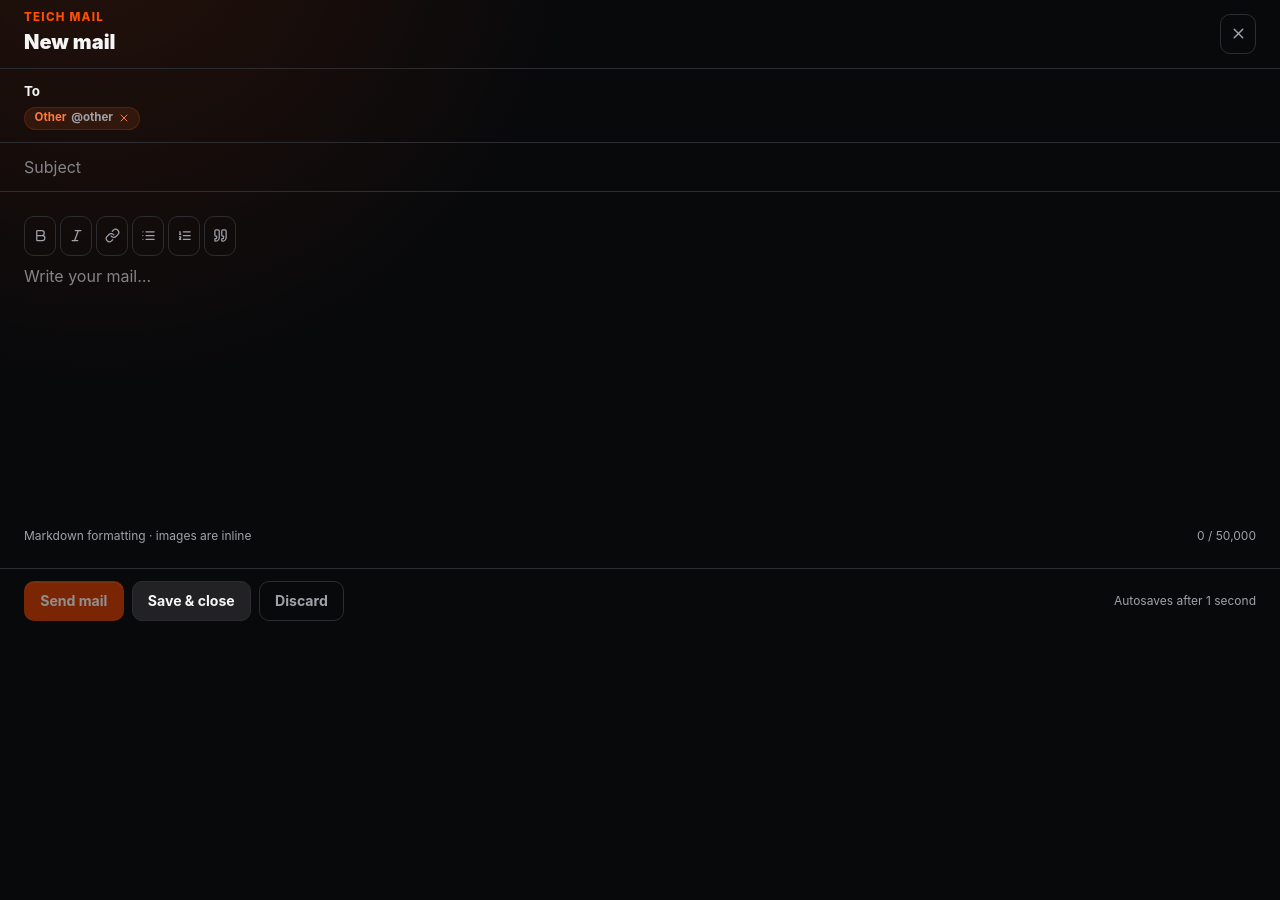
Test: MailComposer › queues edits made while an autosave is still running
In the field with placeholder "Subject": [640, 167] box [24,155,1256,179], type "First version"
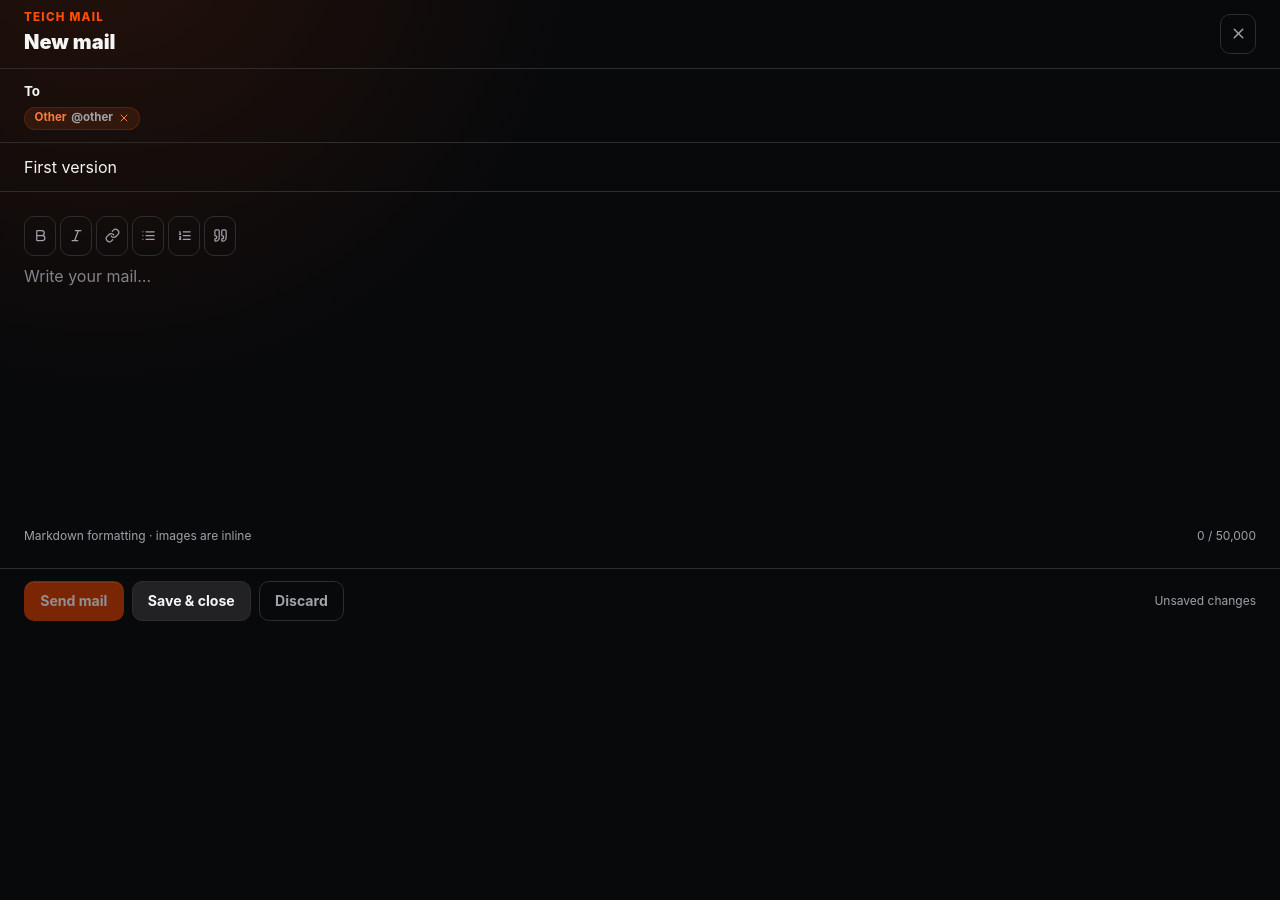
In the text box named "Mail body": [640, 392] box [24,264,1256,520], type "First body"
Wait 1000 ms
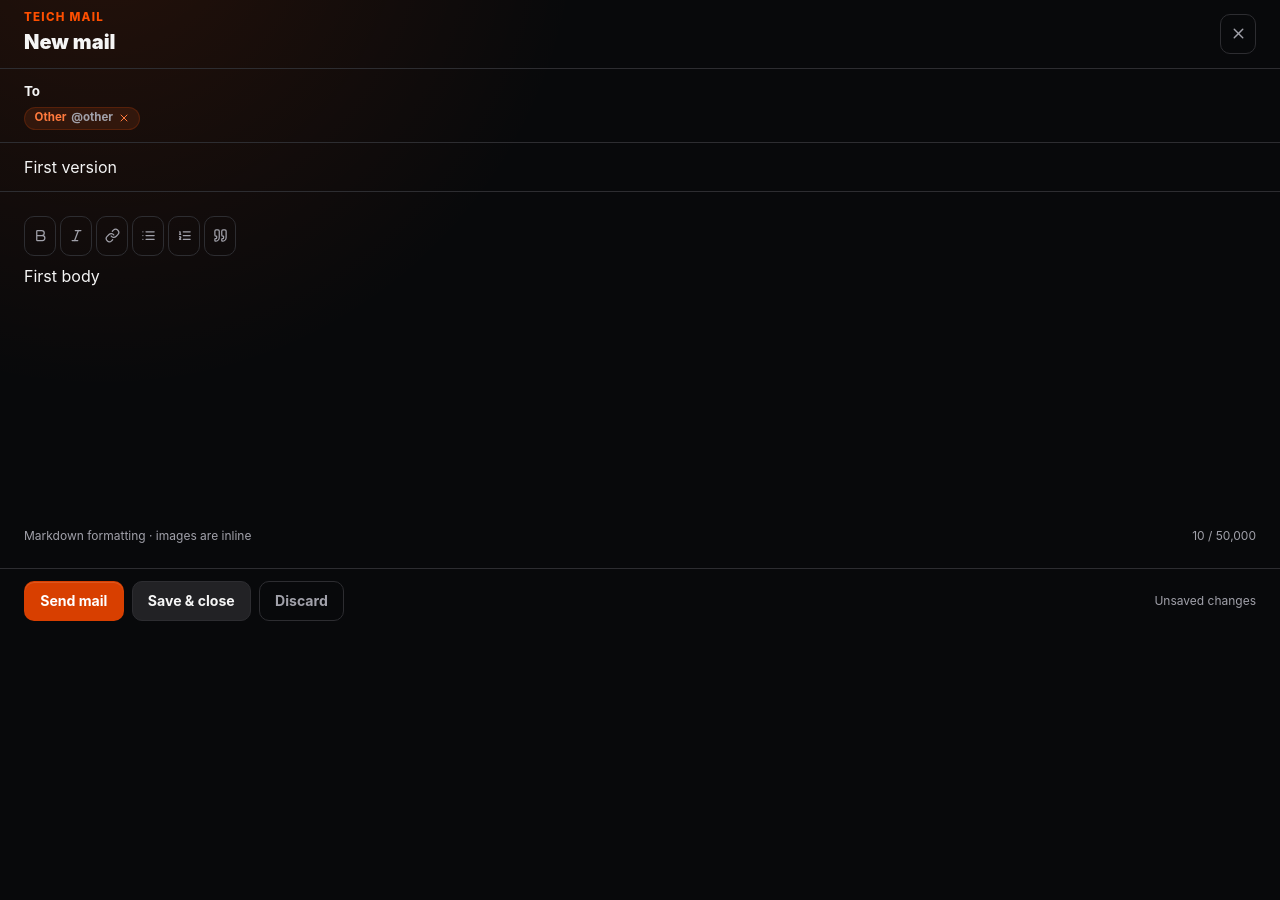
Replace the text in the field with placeholder "Subject" with "Latest version": [640, 167] box [24,155,1256,179]
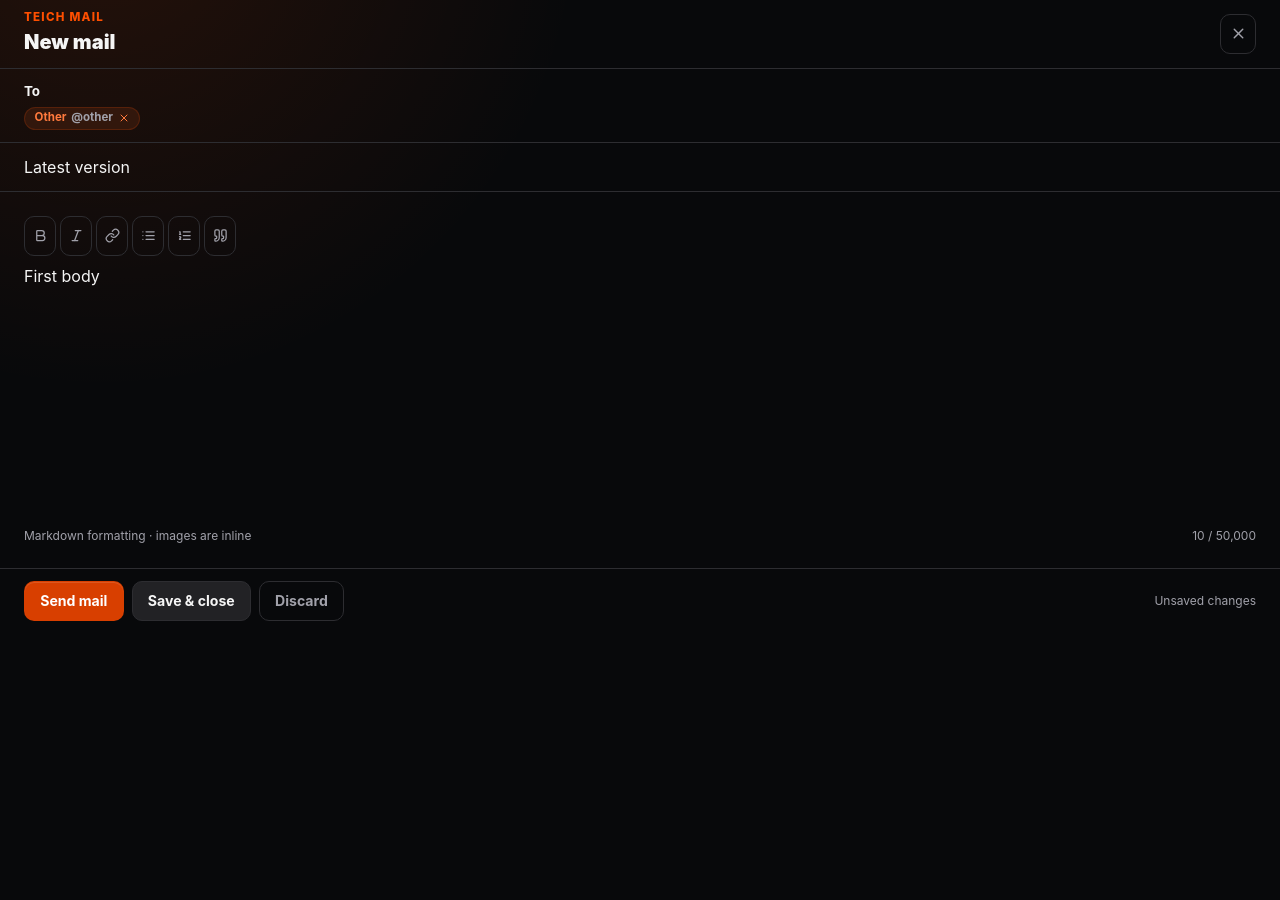
Replace the text in the text box named "Mail body" with "Latest body": [640, 392] box [24,264,1256,520]
Wait 1000 ms
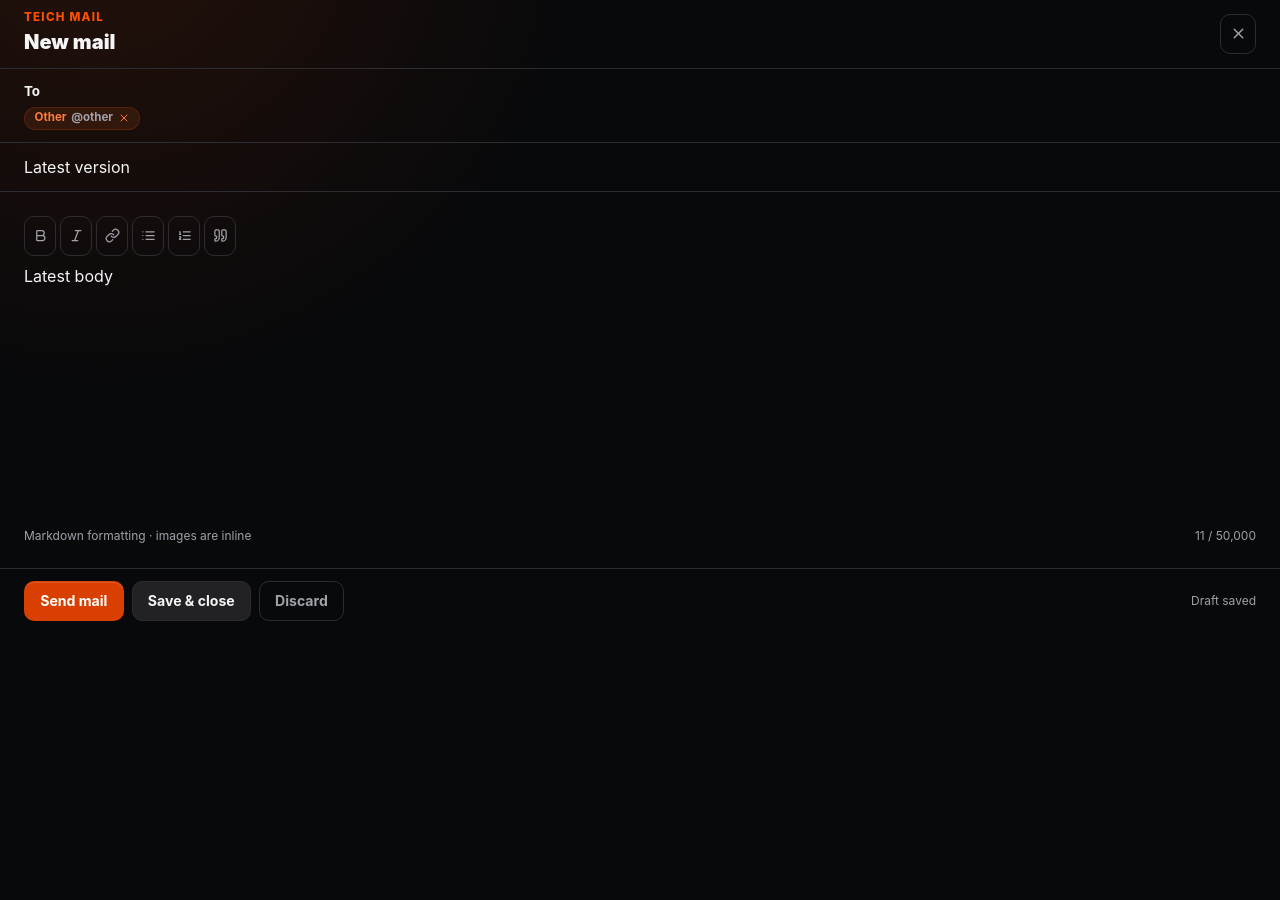
expect the message reads "Draft saved": met, box [1191,593,1256,608]
